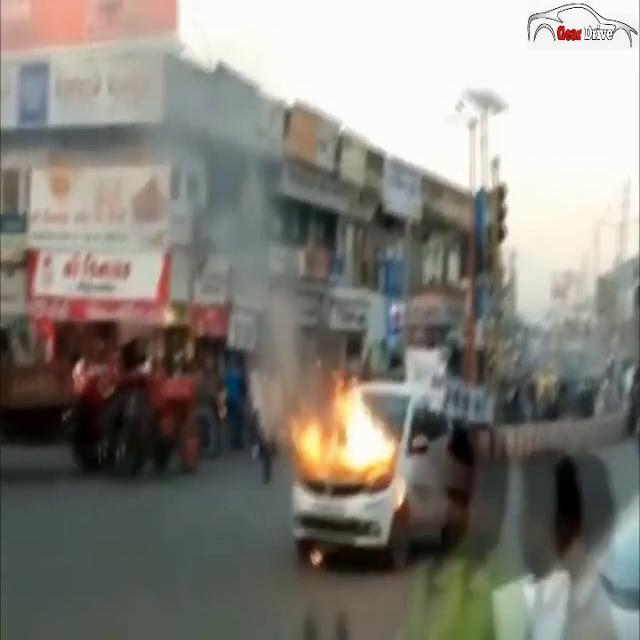Fire: (290, 369, 394, 483)
Smoke: (146, 39, 322, 426)
